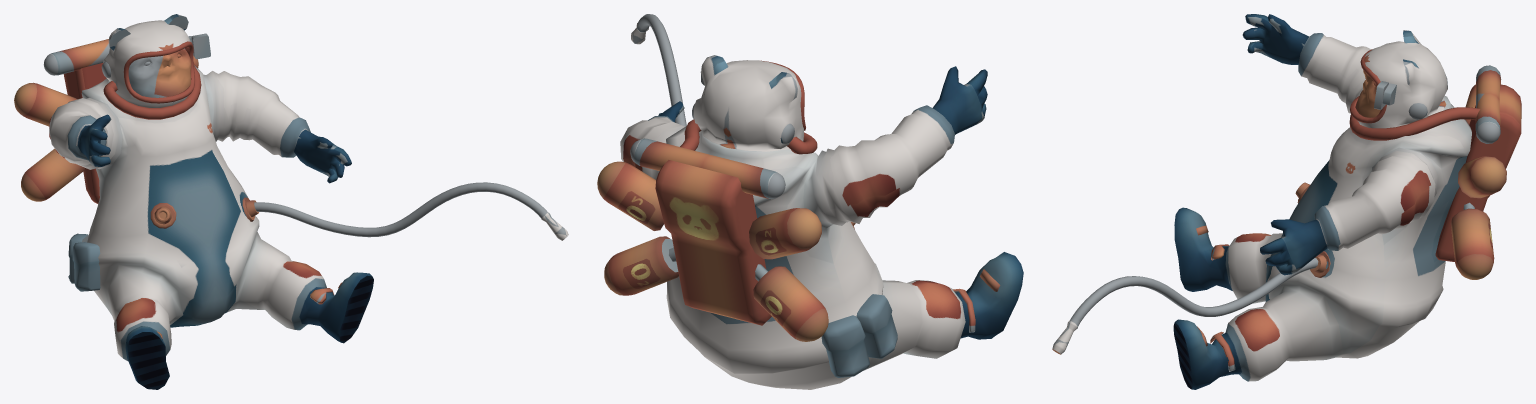
File: panda_test_scale.FBX
3 views of the same model, side by side, from view 1: azimuth 30°, elevation 25°; view 2: azimuth 150°, elevation 25°; view 3: azimuth 270°, elevation 25° (orthographic). The views are drawn at different scales.
Visible parts, largest first — view 1: panda002; view 2: panda002; view 3: panda002.
Boxes of the visible parts, x1,y1,x2,y2 form: panda002: (14,14,568,389); panda002: (597,14,1023,389); panda002: (1052,14,1521,389).
Bounding box in the file's own units: 133 × 91.71 × 131.
